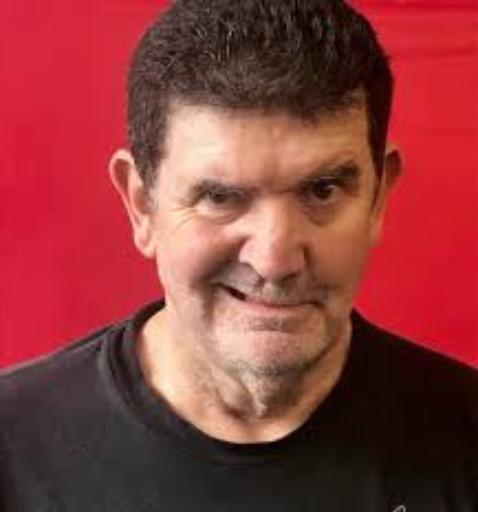left_eye: (299, 182, 355, 205)
left_lip_corner: (303, 296, 325, 314)
right_eye: (189, 186, 252, 212)
right_lip_corner: (208, 278, 242, 306)
